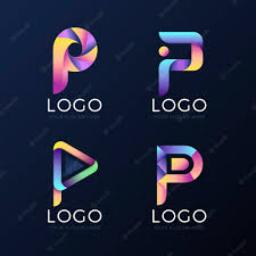p: (47, 24, 103, 96), (154, 138, 206, 206)
